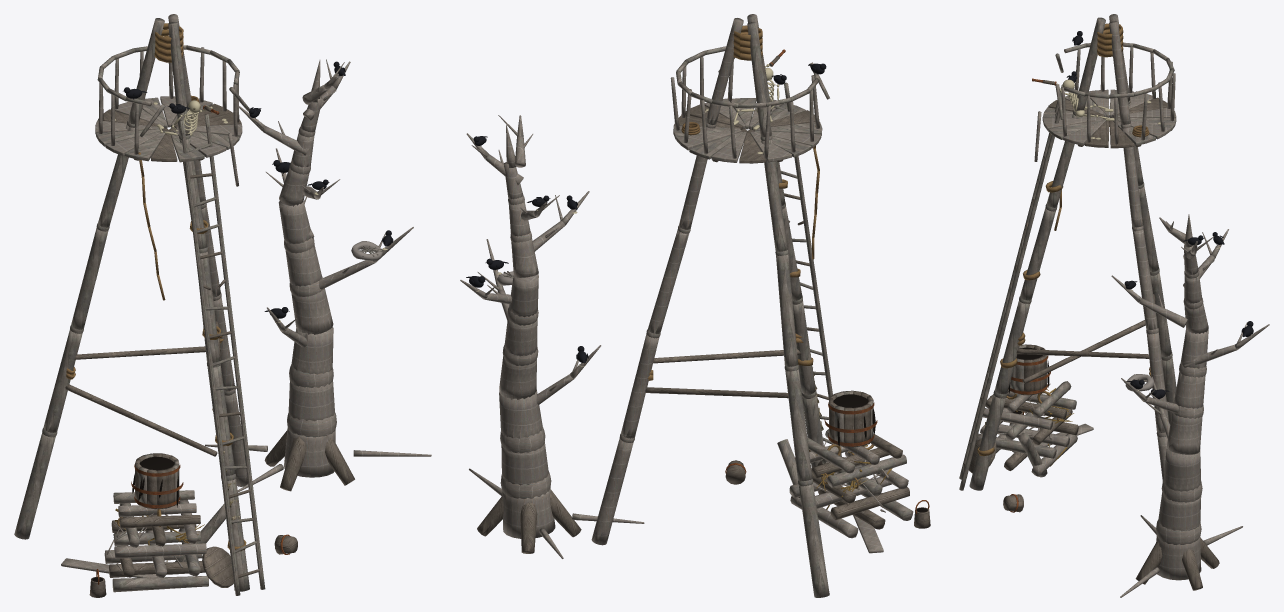
The model's file is crow_roost.glb.
3 views of the same model, side by side, from view 1: azimuth 30°, elevation 25°; view 2: azimuth 150°, elevation 25°; view 3: azimuth 270°, elevation 25° (orthographic). The views are drawn at different scales.
Parts seen in each view (by area): view 1: crow_roost; view 2: crow_roost; view 3: crow_roost.
Part boxes in pixels (box(x1,y1,x2,y2)): crow_roost: box(14, 14, 431, 597); crow_roost: box(460, 14, 930, 597); crow_roost: box(959, 14, 1269, 597).
Bounding box in the file's own units: 7.36 × 9.31 × 5.48.
7 materials, 7 textured.
